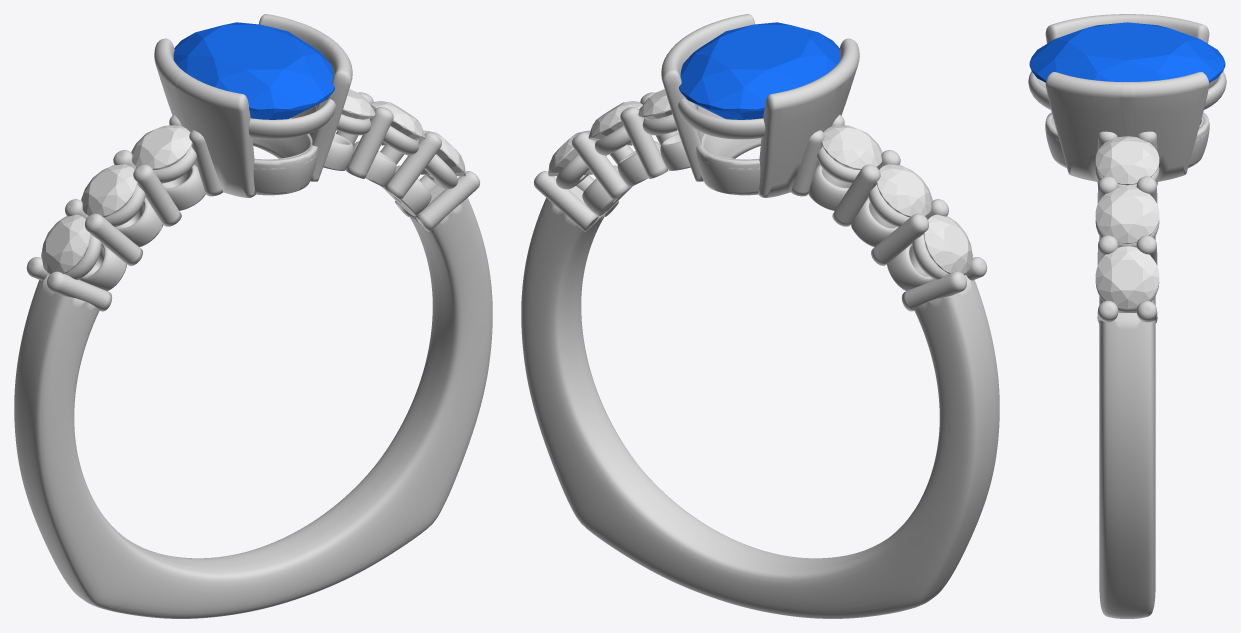
The model's file is bluesapphire-oval-platinum-halfmoonbezel-europeanshank-7stone.glb.
3 views of the same model, side by side, from view 1: azimuth 30°, elevation 25°; view 2: azimuth 150°, elevation 25°; view 3: azimuth 270°, elevation 25° (orthographic). The views are drawn at different scales.
Visible parts, largest first — view 1: metal, stone.003, side.006, side.007, side.008, side.010, side.011, side.009; view 2: metal, stone.003, side.006, side.007, side.008, side.010, side.011, side.009; view 3: metal, stone.003, side.009, side.010, side.011.
Boxes of the visible parts, x1,y1,x2,y2 form: metal: (14, 14, 492, 618); stone.003: (173, 22, 334, 119); side.006: (41, 214, 90, 273); side.007: (81, 164, 137, 217); side.008: (131, 125, 192, 169); side.010: (371, 101, 425, 145); side.011: (341, 89, 375, 119); side.009: (421, 130, 465, 176); metal: (521, 14, 999, 618); stone.003: (679, 22, 840, 119); side.006: (923, 214, 972, 273); side.007: (876, 164, 932, 217); side.008: (821, 125, 882, 169); side.010: (588, 101, 642, 145); side.011: (638, 89, 672, 119); side.009: (548, 130, 592, 176); metal: (1028, 14, 1226, 618); stone.003: (1029, 22, 1225, 82); side.009: (1095, 246, 1159, 308); side.010: (1095, 186, 1159, 243); side.011: (1095, 136, 1159, 185).
Bounding box in the file's own units: 20.11 × 23.2 × 7.75.
